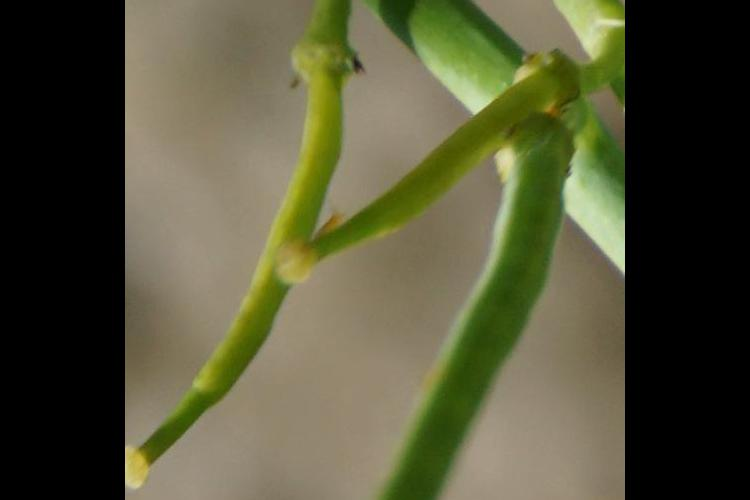pod: (132, 25, 346, 489), (271, 62, 560, 293)
